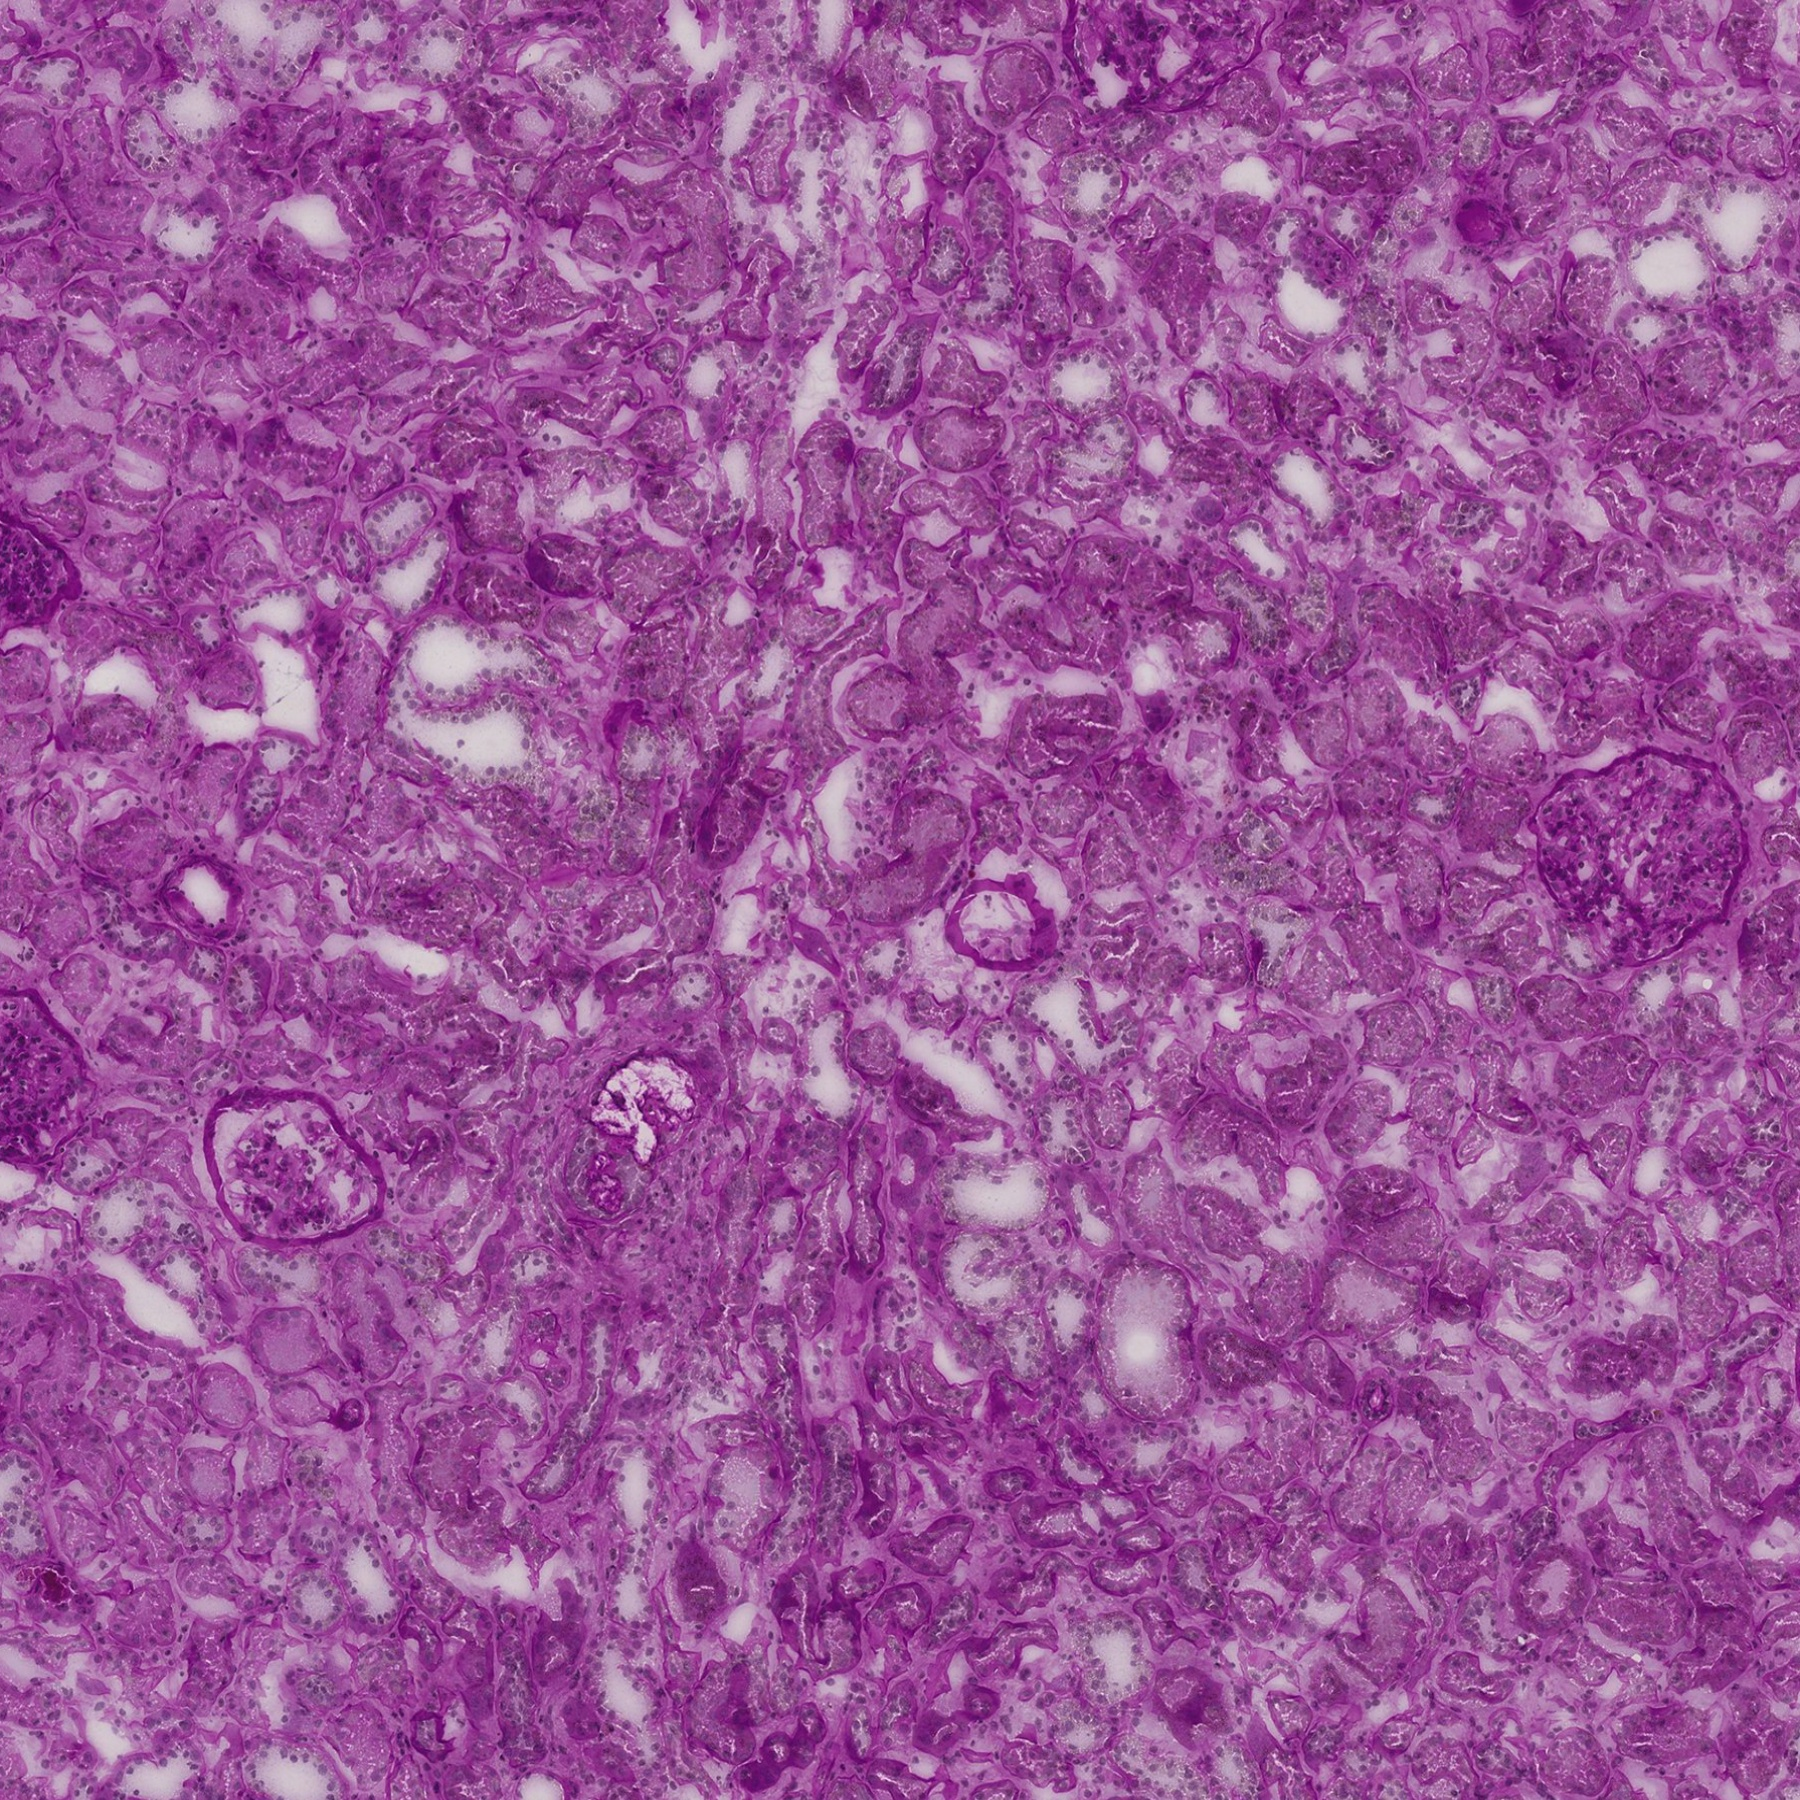Glomeruli: (1533, 748, 1746, 969), (203, 1085, 387, 1248), (2, 986, 91, 1137), (2, 519, 86, 636)
